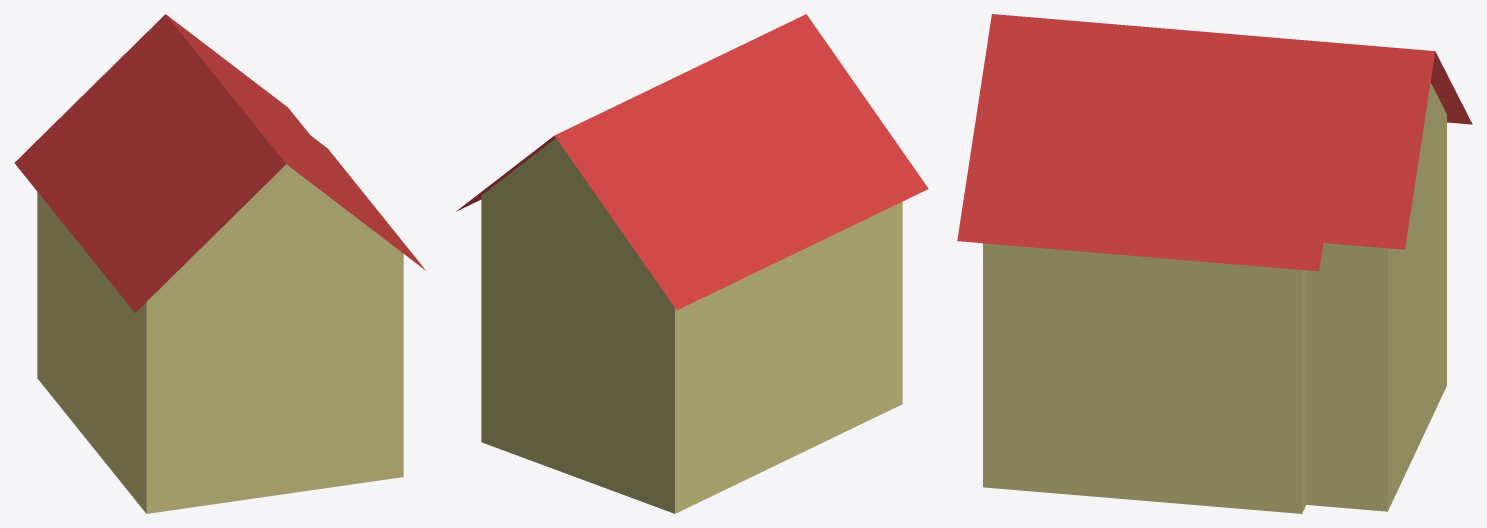
3 renders of one model, left to right at view 1: azimuth 30°, elevation 25°; view 2: azimuth 150°, elevation 25°; view 3: azimuth 270°, elevation 25°, orthographic. The views are drawn at different scales.
Size of the model in its own units: 14.96 by 17.71 by 15.42.
